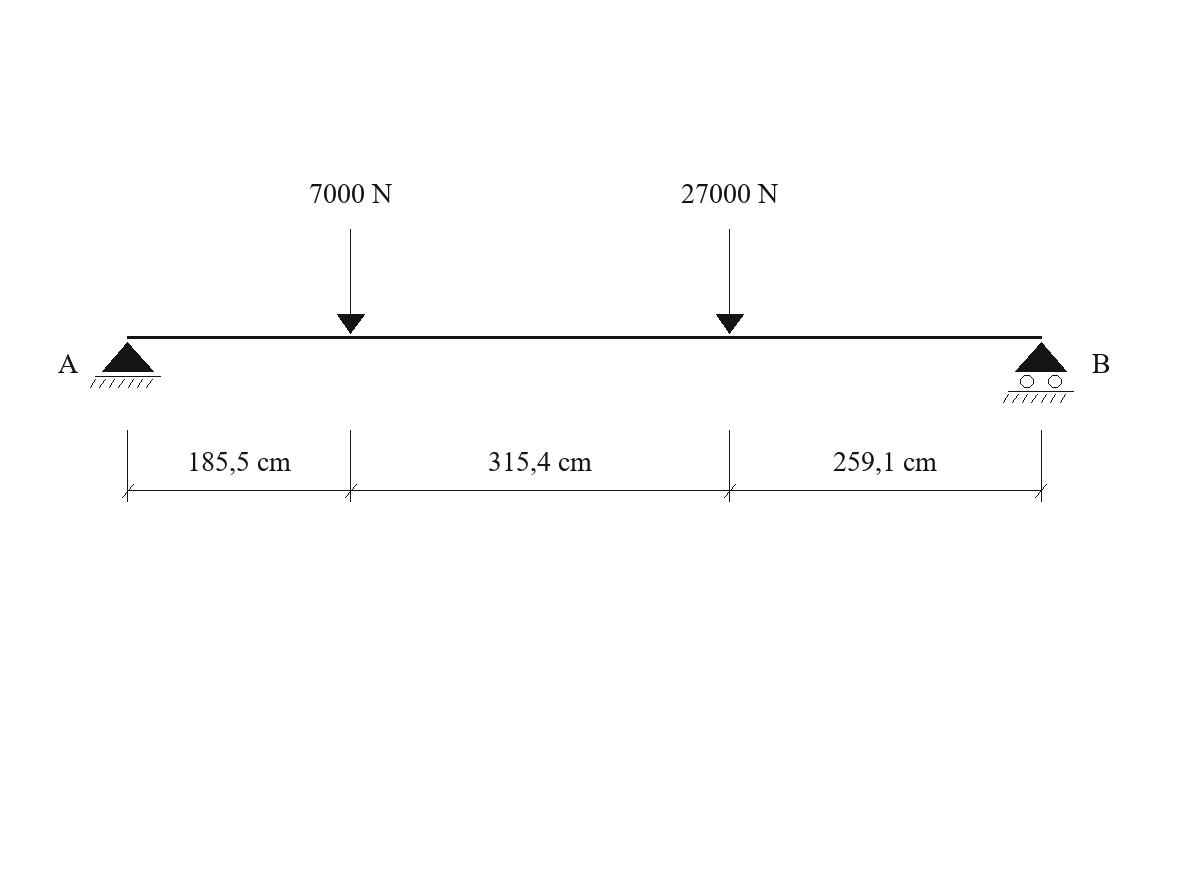pin_support: (90, 342, 161, 388)
point_load: (337, 229, 365, 334), (716, 229, 744, 334)
roller_support: (1003, 342, 1074, 403)
